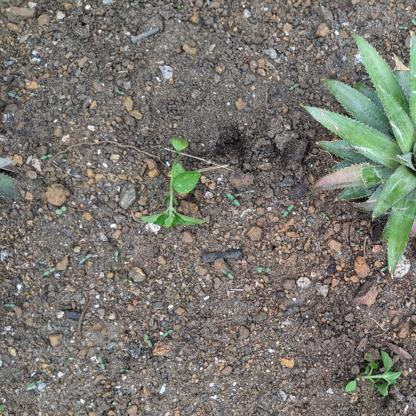pineapple: (300, 29, 416, 279)
weed: (143, 136, 211, 235), (344, 348, 404, 399)
